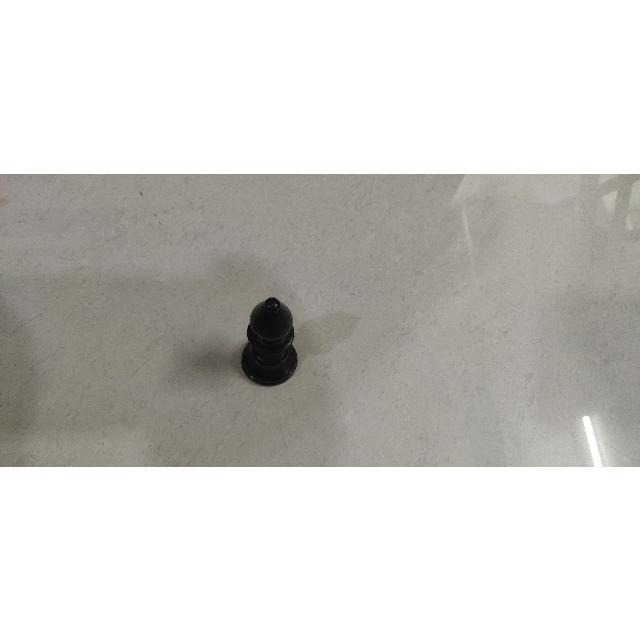black-bishop: (239, 293, 301, 386)
